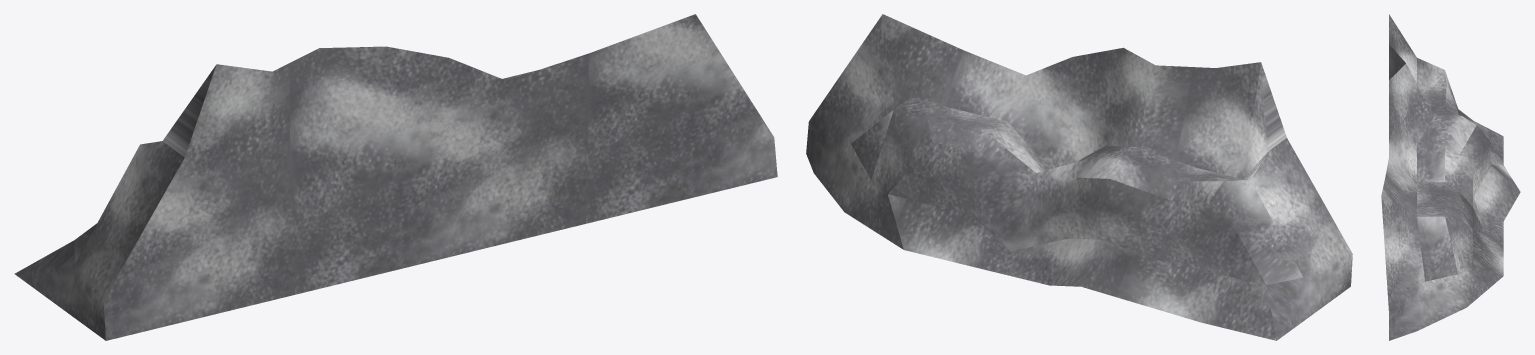
The model's file is MountainT5.FBX.
The picture shows the model from 3 angles, left to right: view 1: azimuth 30°, elevation 25°; view 2: azimuth 150°, elevation 25°; view 3: azimuth 270°, elevation 25°; orthographic projection. The views are drawn at different scales.
Visible parts, largest first — view 1: MountainT5; view 2: MountainT5; view 3: MountainT5.
Part boxes in pixels (bbox=[...]): MountainT5: bbox=[14, 14, 777, 340]; MountainT5: bbox=[806, 14, 1352, 340]; MountainT5: bbox=[1381, 14, 1520, 340].
Bounding box in the file's own units: 232 × 82.1 × 66.45.
Materials: 1 (1 with a texture image).
